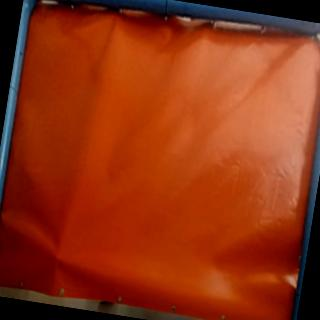Hit-hRxx: (47, 247, 69, 267)
